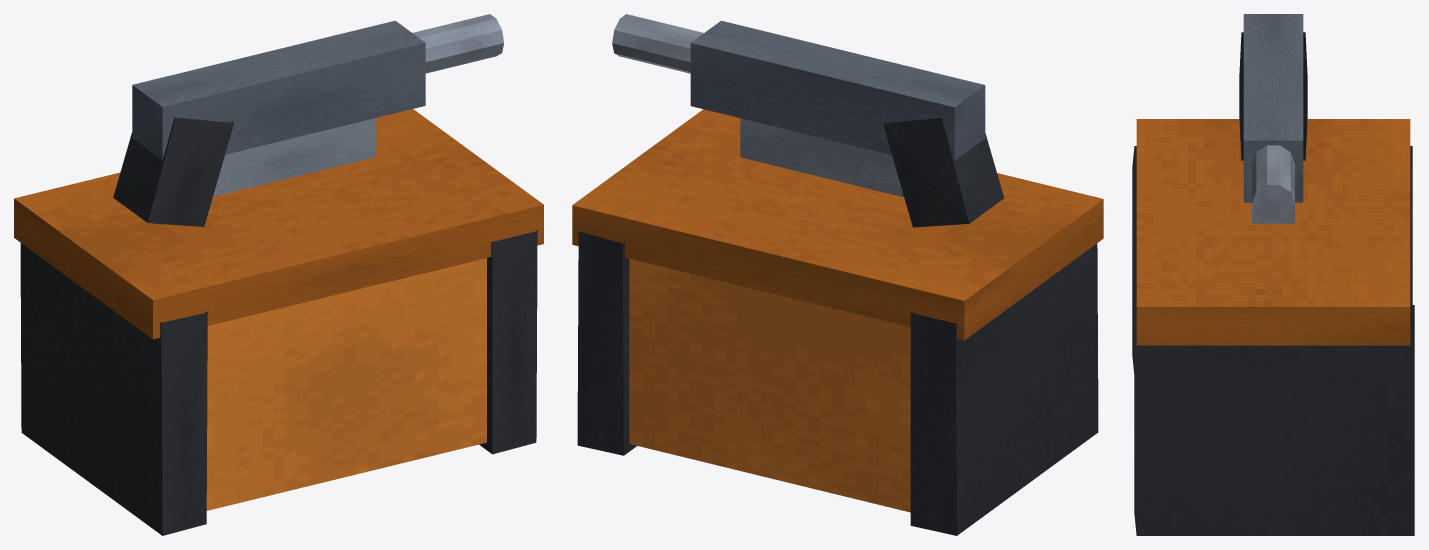
File: pickup_weapon.glb
The picture shows the model from 3 angles, left to right: view 1: azimuth 30°, elevation 25°; view 2: azimuth 150°, elevation 25°; view 3: azimuth 270°, elevation 25°; orthographic projection.
Parts seen in each view (by area): view 1: pickup_weapon; view 2: pickup_weapon; view 3: pickup_weapon.
Boxes of the visible parts, bbox=[...] form: pickup_weapon: bbox=[14, 14, 543, 535]; pickup_weapon: bbox=[572, 14, 1103, 535]; pickup_weapon: bbox=[1132, 14, 1414, 535].
Size of the model in its own units: 1.09 by 0.95 by 0.66.
Materials: 1 (1 with a texture image).
